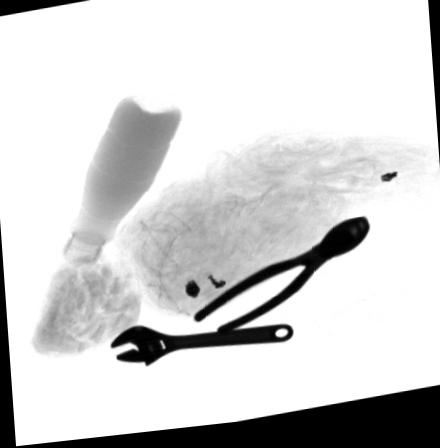Pliers: (188, 219, 372, 343)
Wrench: (107, 326, 294, 370)
